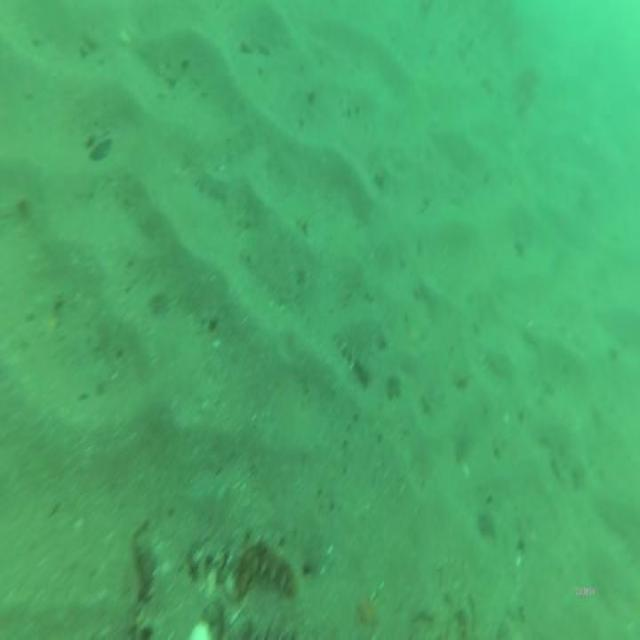holothurian: (232, 537, 299, 604)
